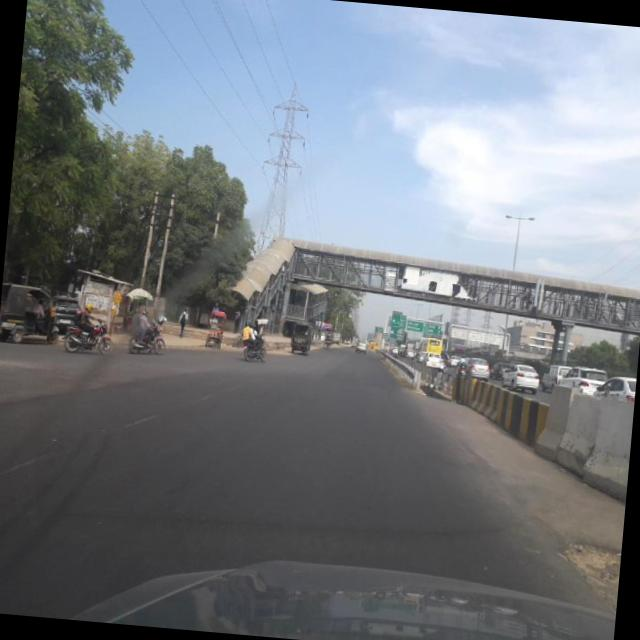pothole: (547, 514, 622, 600)
